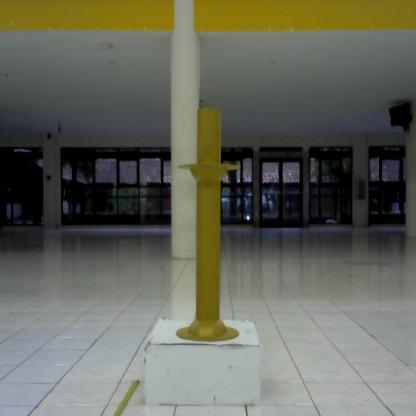pole: (171, 103, 245, 348)
